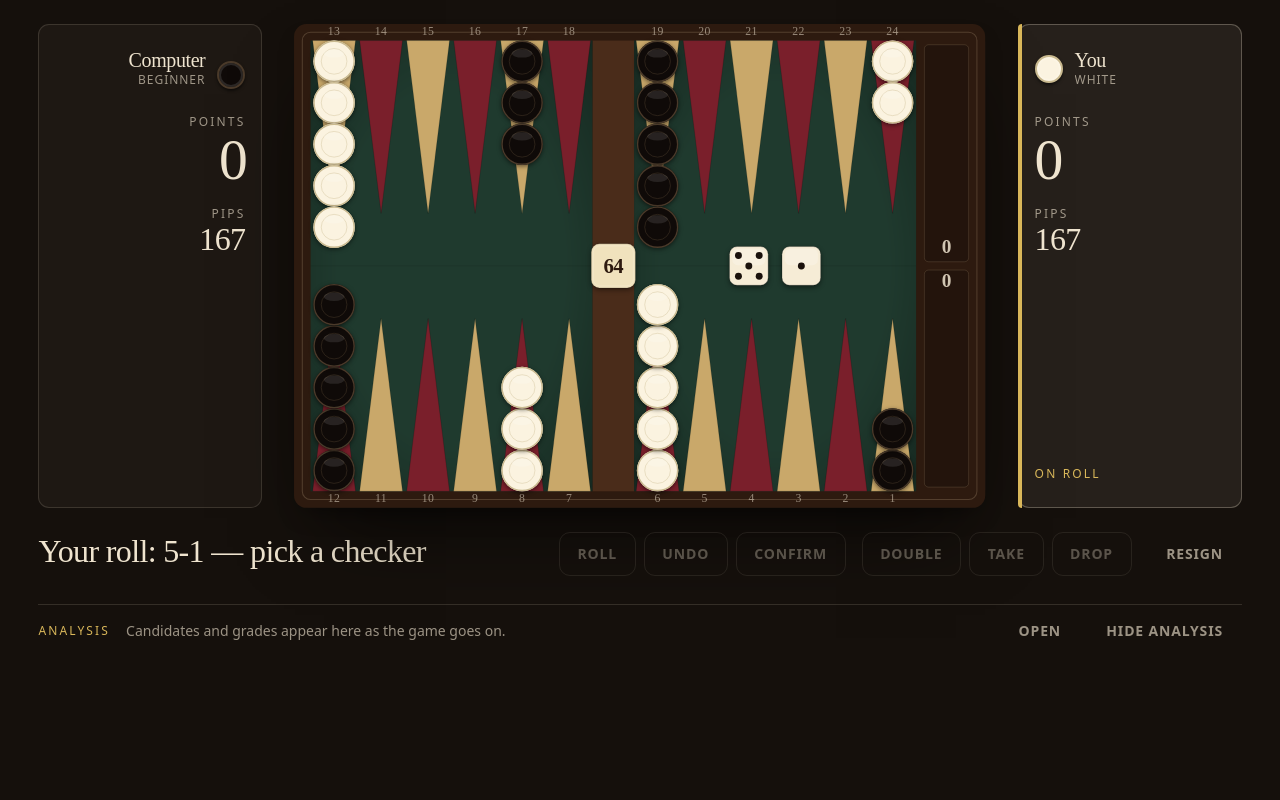
Test: <TableLayout> › clears a lifted checker on Escape
The image size is (1280, 800).
Click the button named "Point 13" at [334, 153], box [311,41,358,266]
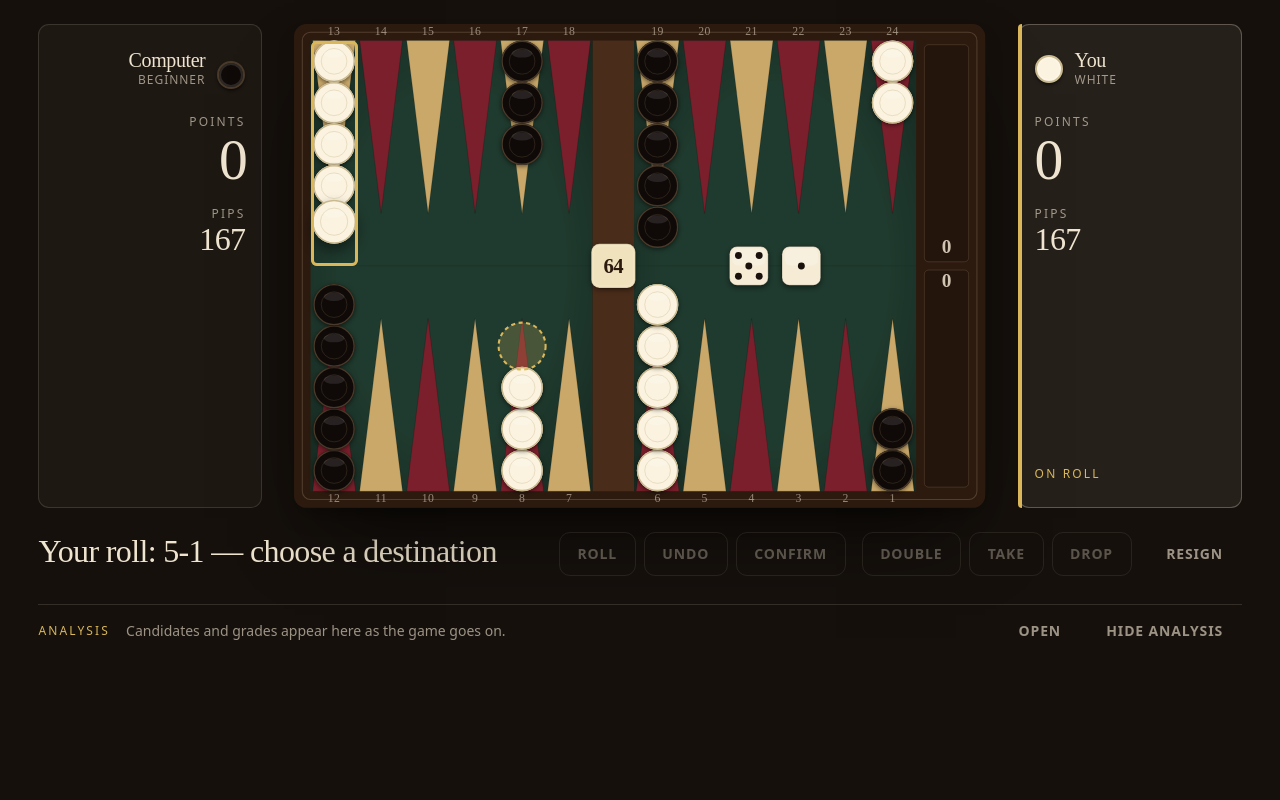
expect the message shows "choose a destination": met, box [38,533,497,569]
Press Escape
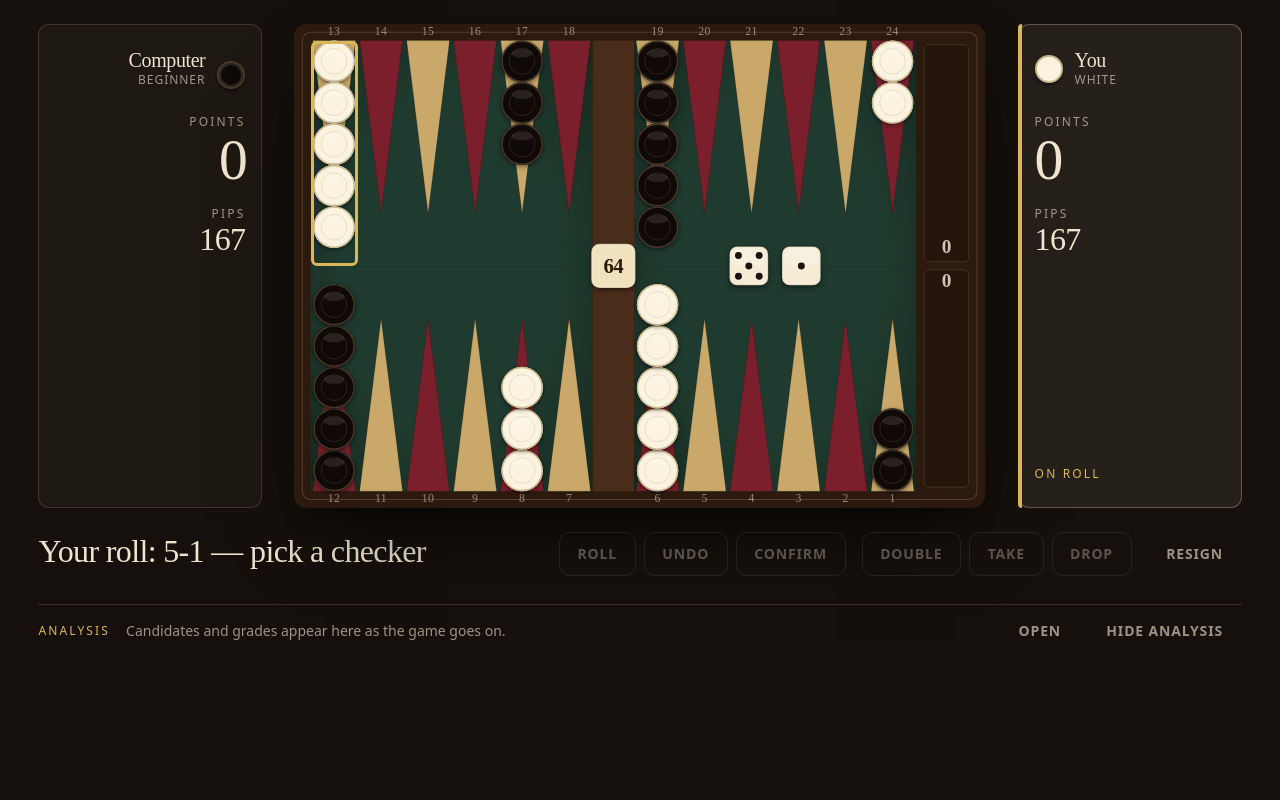
expect the message shows "pick a checker": met, box [38,533,426,569]
